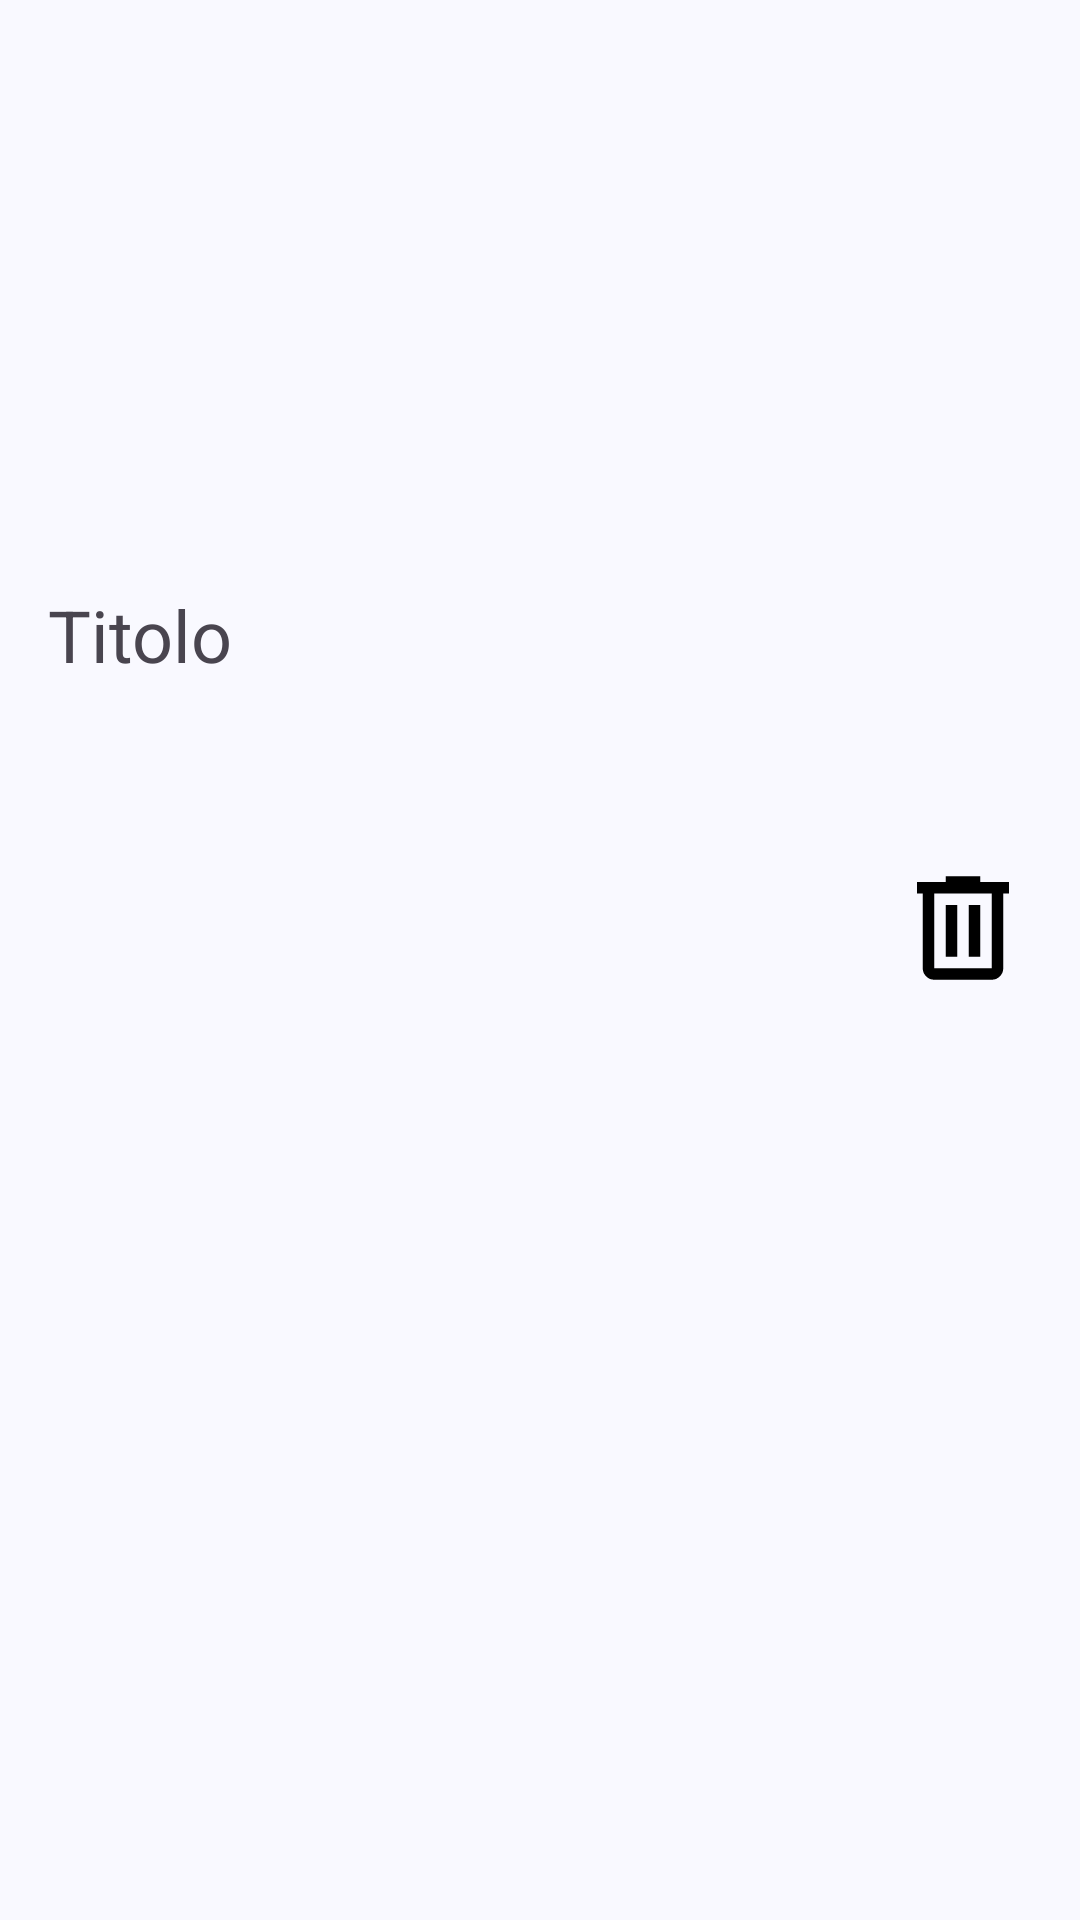

Named icons in this screenshot (1080w x 1920h) and their bounding boxes, (x1=x1, y1=y1, x2=x2, y2=y2):
delete: (x1=917, y1=876, x2=1009, y2=980)
